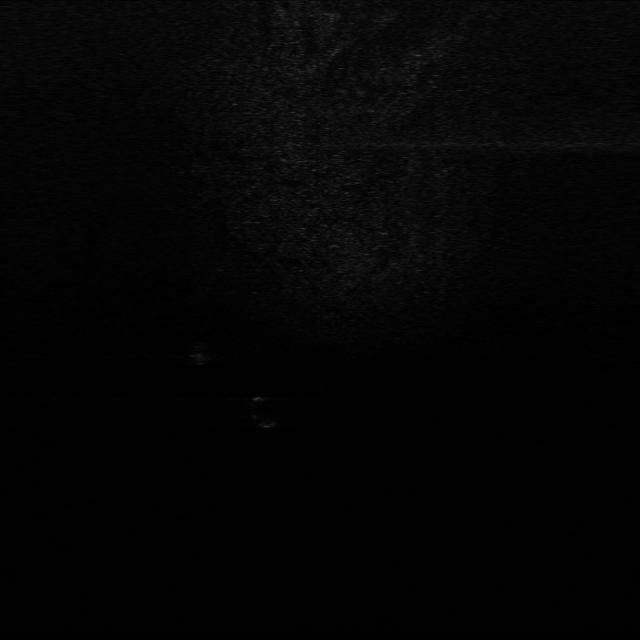circle cage: (183, 339, 218, 366)
tyre: (243, 386, 286, 432)
